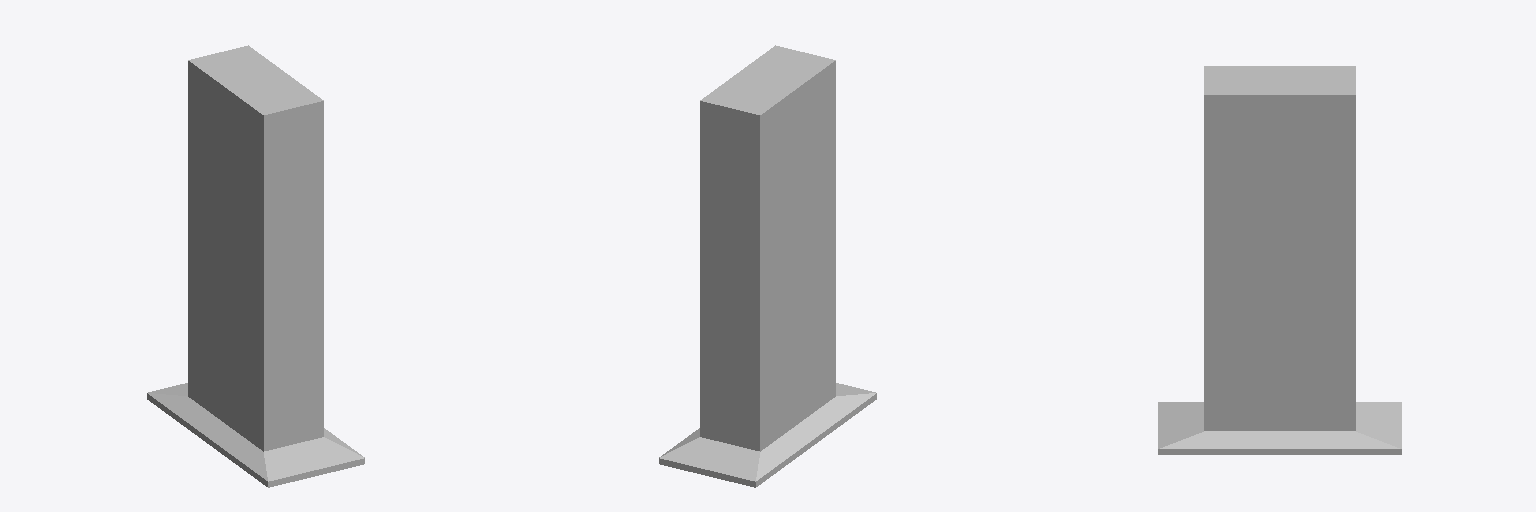
File: Smg Clip.obj
3 views of the same model, side by side, from view 1: azimuth 30°, elevation 25°; view 2: azimuth 150°, elevation 25°; view 3: azimuth 270°, elevation 25° (orthographic).
Visible parts, largest first — view 1: Cube.001_Cube.005; view 2: Cube.001_Cube.005; view 3: Cube.001_Cube.005.
Boxes of the visible parts, x1=… form: Cube.001_Cube.005: x1=147, y1=45, x2=364, y2=487; Cube.001_Cube.005: x1=659, y1=45, x2=876, y2=487; Cube.001_Cube.005: x1=1158, y1=66, x2=1401, y2=454.
Bounding box in the file's own units: 0.0534 × 0.1841 × 0.1156.